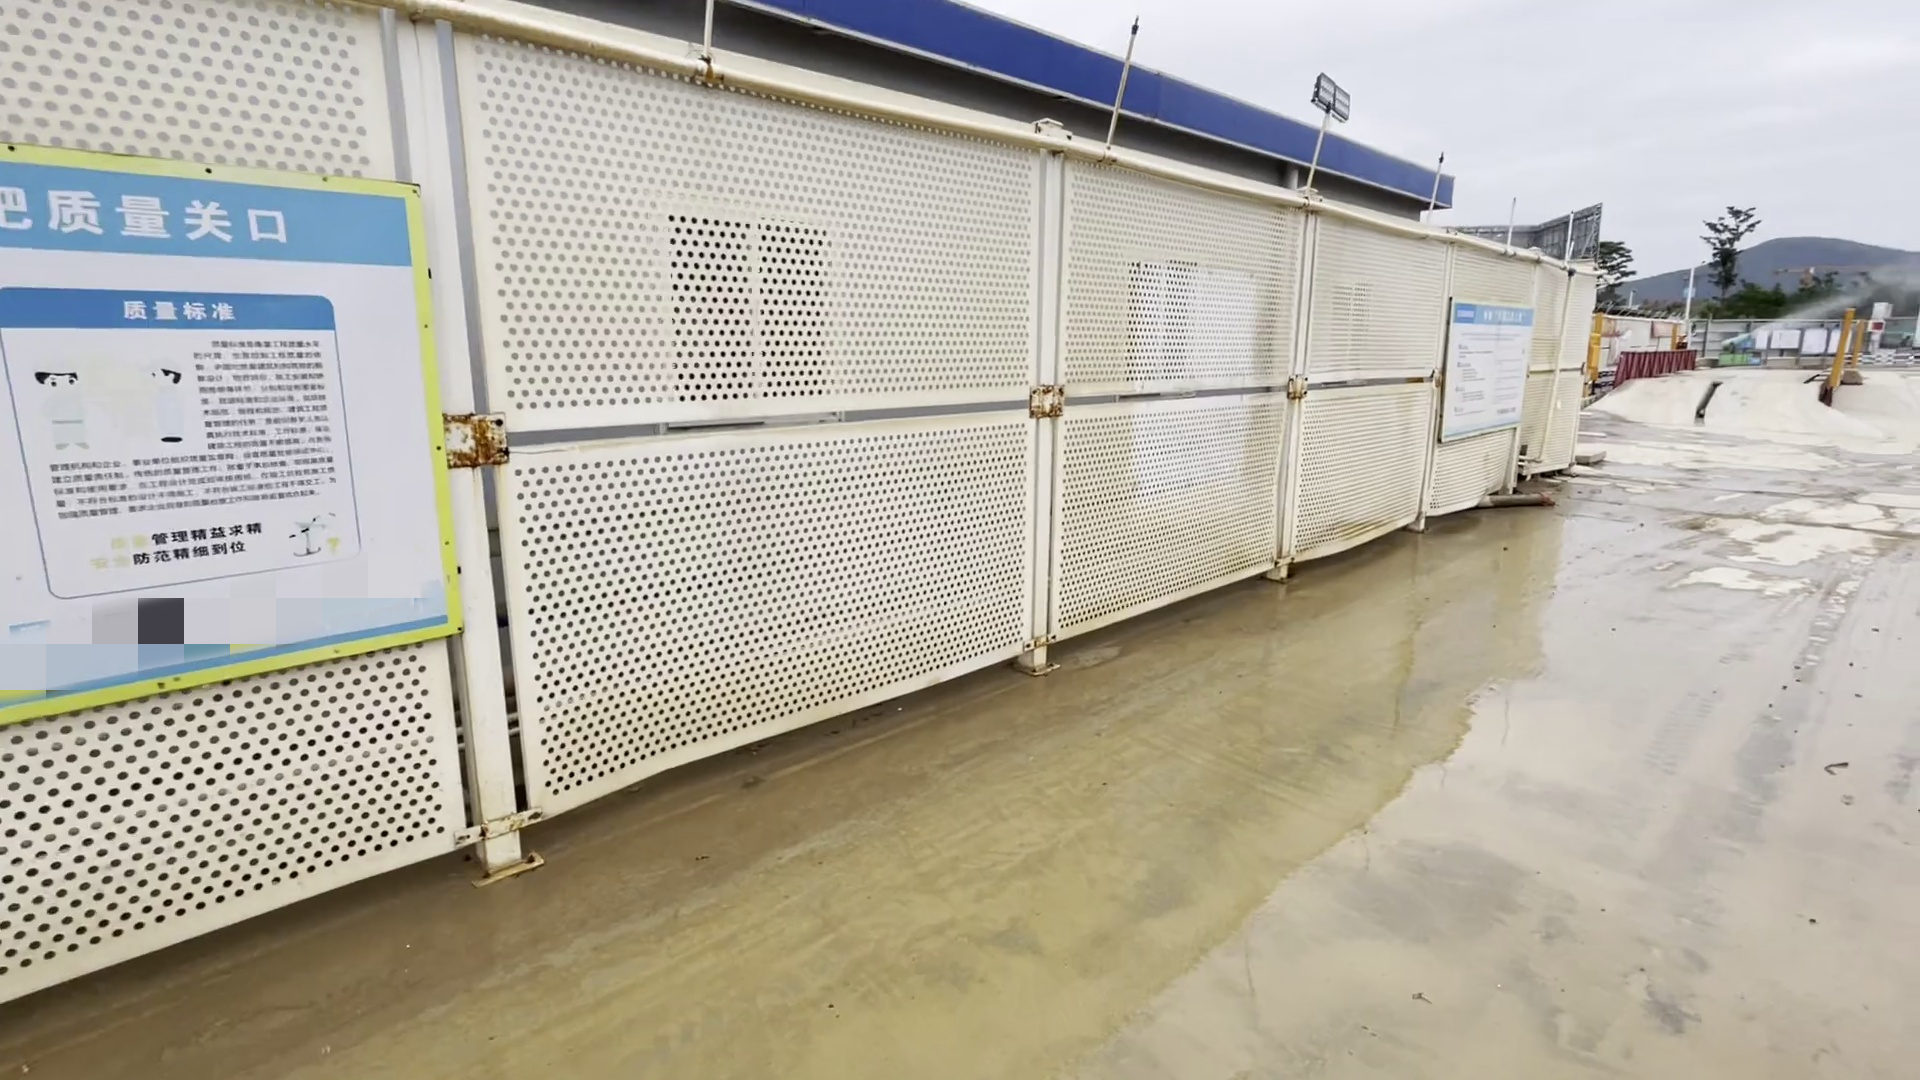slogan: (7, 149, 460, 712), (1436, 291, 1542, 448)
